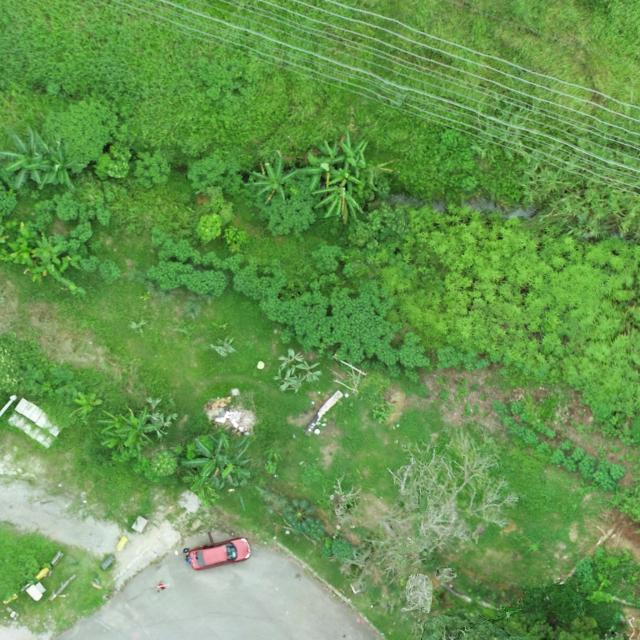Tree: (328, 428, 520, 612), (181, 431, 253, 491), (25, 230, 87, 295), (0, 124, 52, 189), (98, 408, 156, 462), (252, 157, 303, 206), (40, 131, 86, 184), (312, 178, 364, 224), (296, 148, 346, 193), (114, 405, 160, 447), (331, 130, 369, 179), (284, 498, 316, 530), (305, 518, 326, 538)
